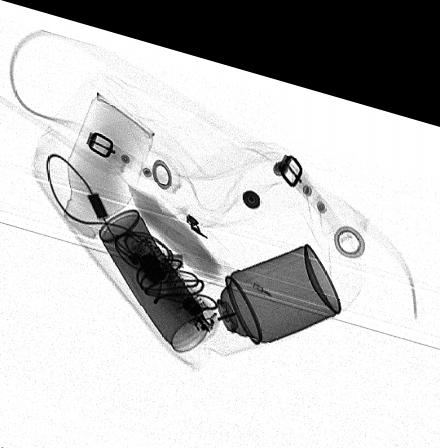Sprayer: (183, 226, 341, 343)
